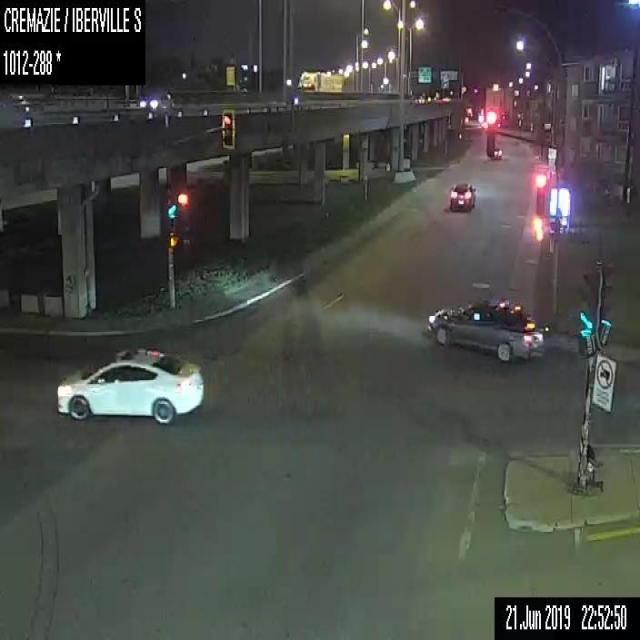vehicle: (54, 347, 204, 425), (427, 294, 544, 362), (138, 91, 182, 118), (297, 70, 342, 96), (448, 180, 475, 213), (489, 146, 501, 159), (414, 95, 424, 104)
